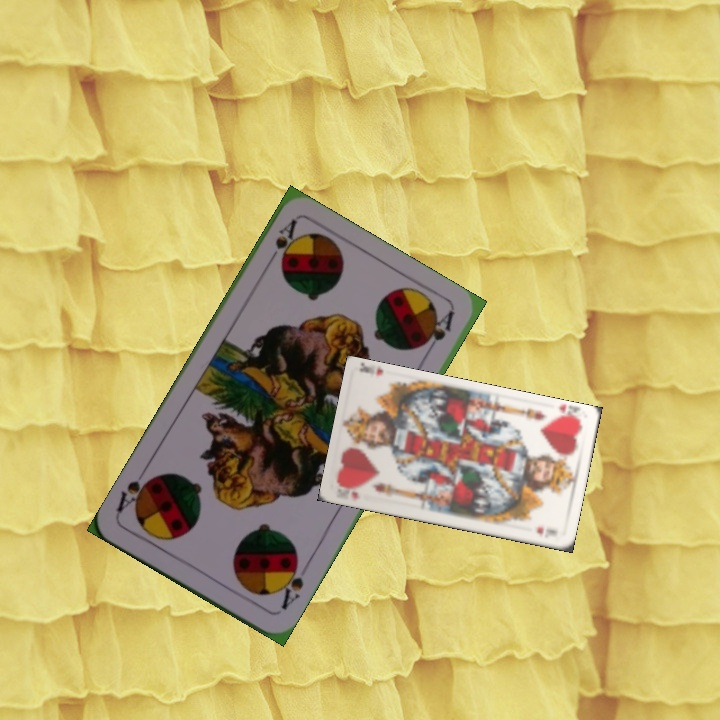HK: (552, 402, 583, 426), (333, 480, 364, 503)
SA: (262, 216, 300, 270), (274, 556, 307, 613)
